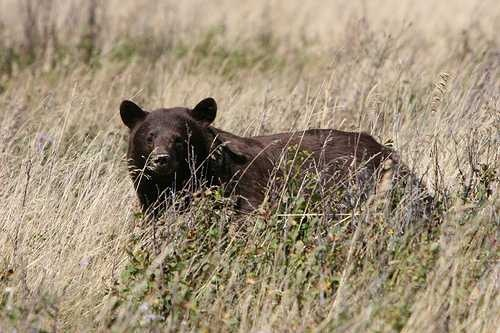bear: (110, 88, 238, 216)
